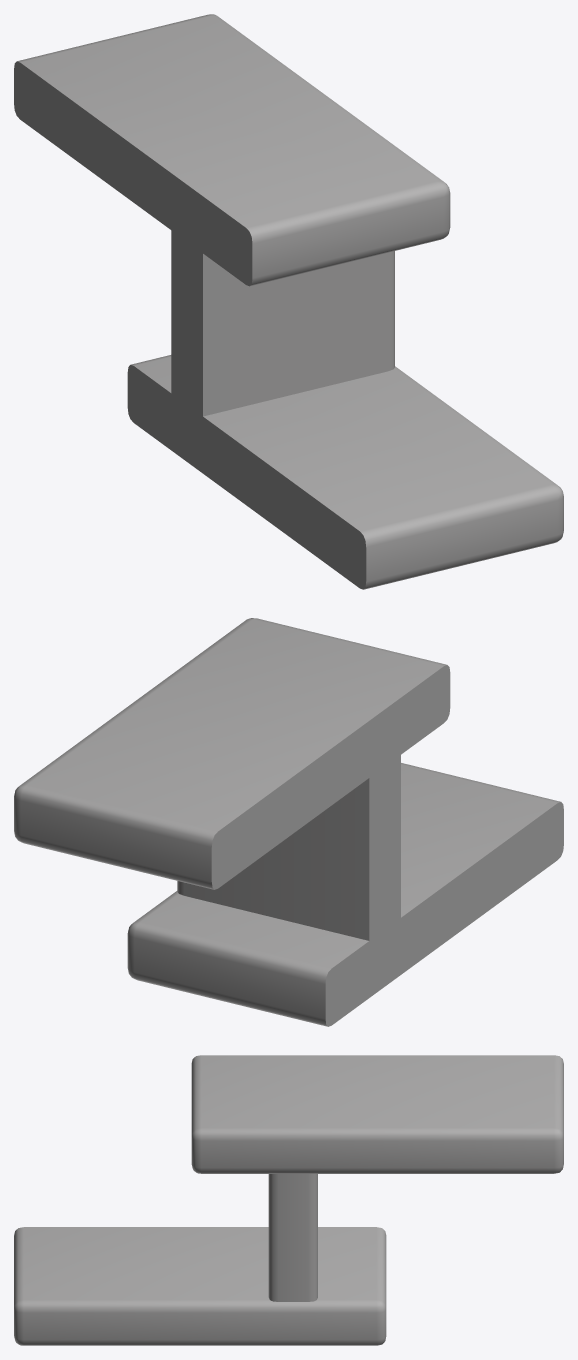
File: Shelf_001.FBX
3 views of the same model, one above another, from view 1: azimuth 30°, elevation 25°; view 2: azimuth 150°, elevation 25°; view 3: azimuth 270°, elevation 25° (orthographic). The views are drawn at different scales.
Parts seen in each view (by area): view 1: Shelf_001; view 2: Shelf_001; view 3: Shelf_001.
Boxes of the visible parts, x1,y1,x2,y2 form: Shelf_001: [14, 14, 563, 589]; Shelf_001: [14, 618, 563, 1026]; Shelf_001: [14, 1055, 563, 1345].
Size of the model in its own units: 7.18 by 9.43 by 21.7.
